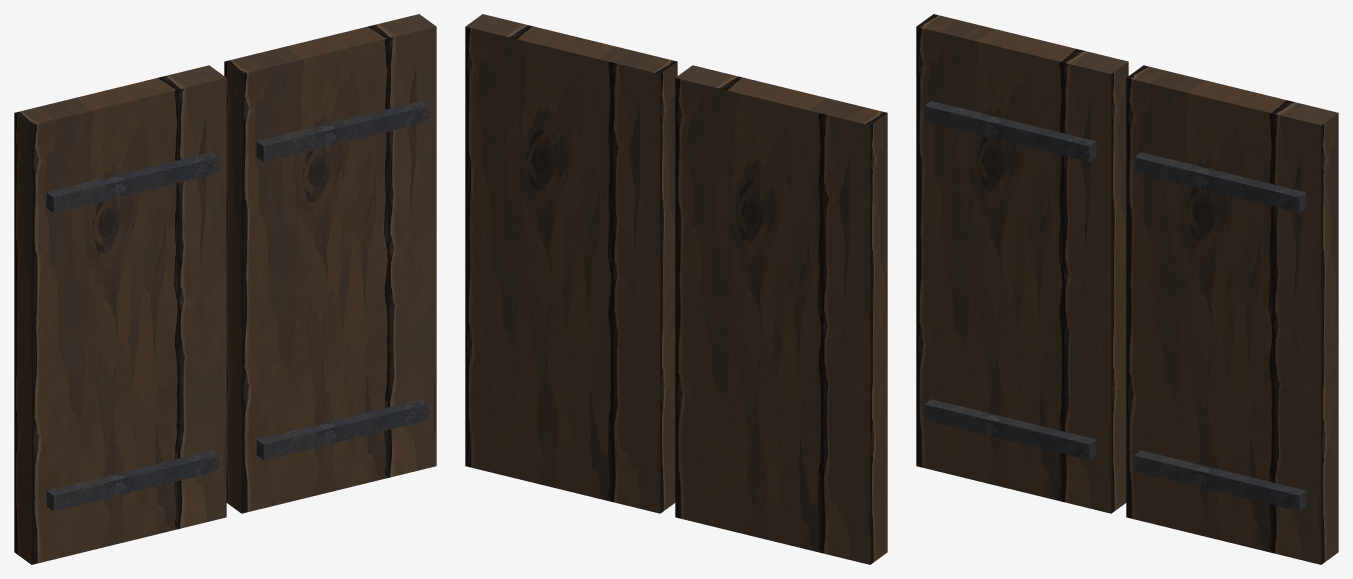
File: shutters_oak.glb
3 renders of one model, left to right at view 1: azimuth 30°, elevation 25°; view 2: azimuth 150°, elevation 25°; view 3: azimuth 330°, elevation 25°, orthographic.
Visible parts, largest first — view 1: shutters_oak; view 2: shutters_oak; view 3: shutters_oak.
Part boxes in pixels (x1,y1,x2,y2): shutters_oak: (14, 14, 436, 564); shutters_oak: (465, 14, 887, 564); shutters_oak: (916, 14, 1338, 564).
Bounding box in the file's own units: 1.35 × 1.4 × 0.14.
Materials: 2 (2 with a texture image).
